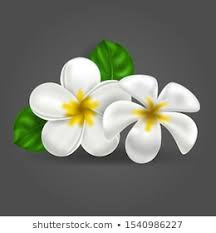frangipani: (29, 57, 131, 159)
